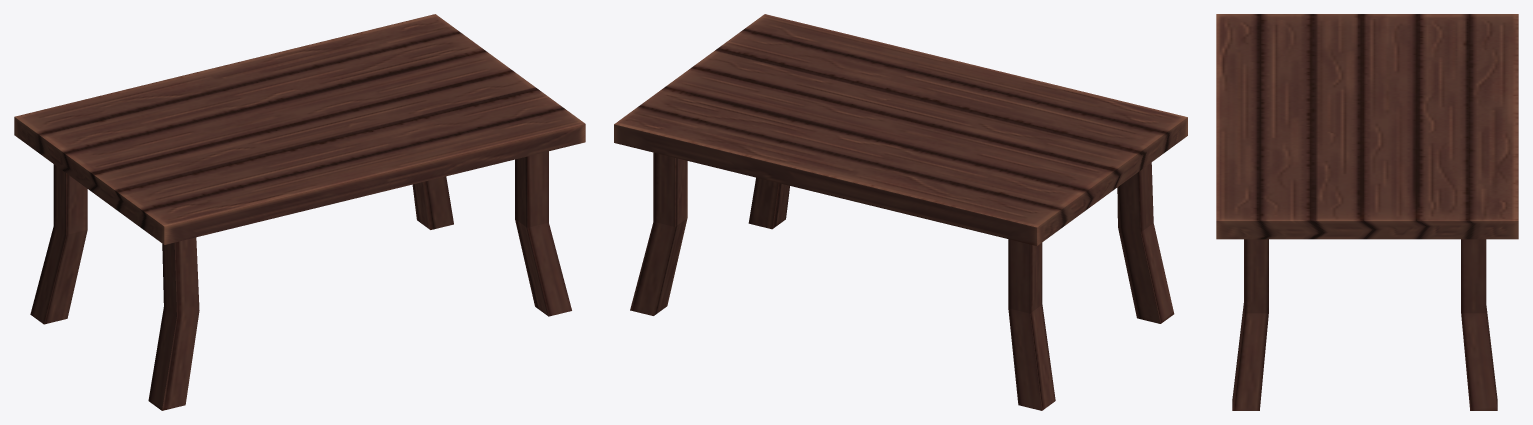
File: Table1.fbx
3 views of the same model, side by side, from view 1: azimuth 30°, elevation 25°; view 2: azimuth 150°, elevation 25°; view 3: azimuth 270°, elevation 25° (orthographic).
Parts seen in each view (by area): view 1: Table MODULO 02; view 2: Table MODULO 02; view 3: Table MODULO 02.
Boxes of the visible parts, x1,y1,x2,y2 form: Table MODULO 02: (14,14,585,410); Table MODULO 02: (614,14,1187,410); Table MODULO 02: (1216,14,1518,410).
Size of the model in its own units: 313 by 136 by 193.
